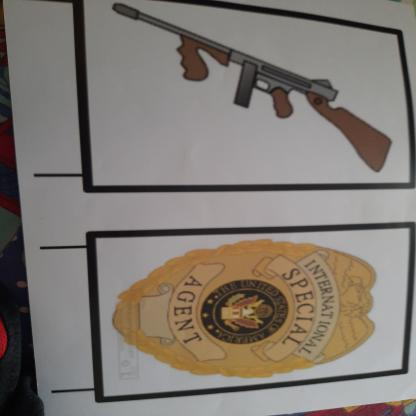Bootlegger: (104, 1, 399, 186)
G-man: (102, 233, 389, 381)
